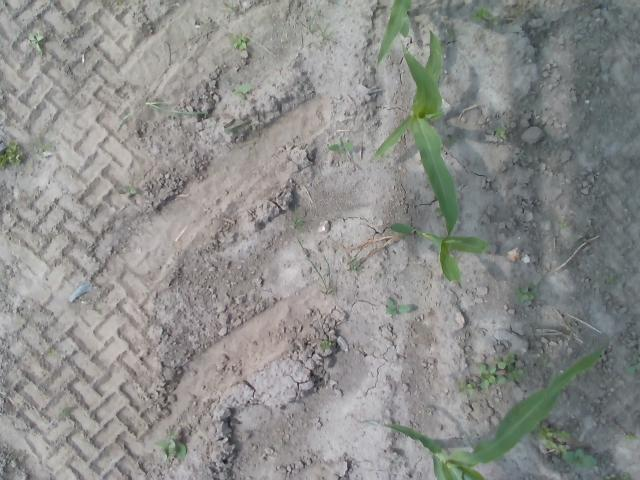Maize: (367, 338, 611, 480), (389, 114, 487, 282), (374, 27, 444, 156), (375, 0, 411, 62)
Weeds: (530, 418, 597, 470), (476, 354, 524, 388), (155, 429, 187, 458), (0, 139, 25, 169), (471, 6, 500, 26), (514, 280, 539, 303), (384, 298, 411, 316), (626, 342, 640, 373), (328, 136, 352, 154), (28, 28, 44, 54), (33, 137, 53, 154), (228, 32, 246, 50), (232, 83, 252, 98), (442, 134, 462, 148), (456, 380, 476, 394), (347, 256, 362, 272), (492, 124, 507, 139), (604, 472, 631, 480), (116, 186, 136, 195), (540, 354, 550, 372), (557, 218, 570, 230), (294, 213, 304, 227), (446, 28, 460, 38), (319, 340, 332, 350), (604, 274, 616, 284), (59, 406, 70, 416), (47, 348, 56, 356), (626, 434, 635, 441)
